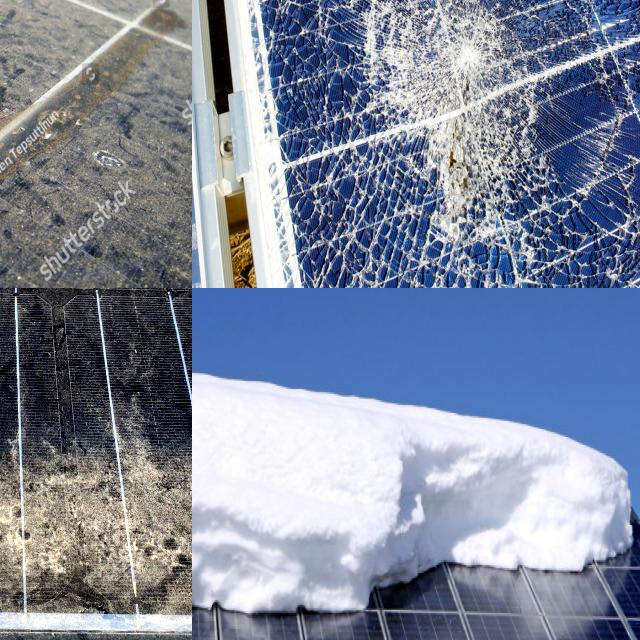bird: (0, 186, 39, 257), (0, 206, 27, 288), (0, 61, 24, 135), (0, 136, 25, 174), (168, 0, 192, 23)
dust: (0, 288, 192, 440), (0, 383, 118, 610), (0, 386, 94, 603), (0, 288, 116, 436), (139, 372, 192, 616)
hotspot: (354, 0, 543, 251), (518, 274, 623, 288)
panel: (233, 368, 414, 620), (424, 398, 638, 590), (192, 353, 268, 618), (192, 336, 216, 639)
